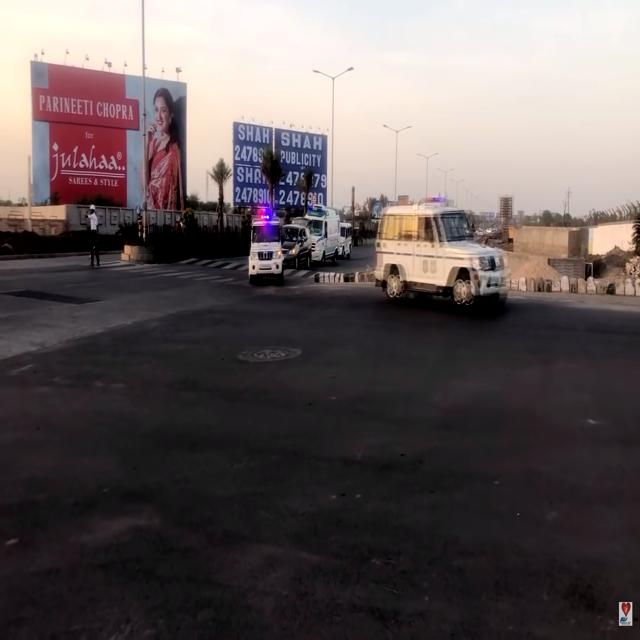emergency-vehicles: (368, 191, 514, 322), (224, 198, 304, 292)
